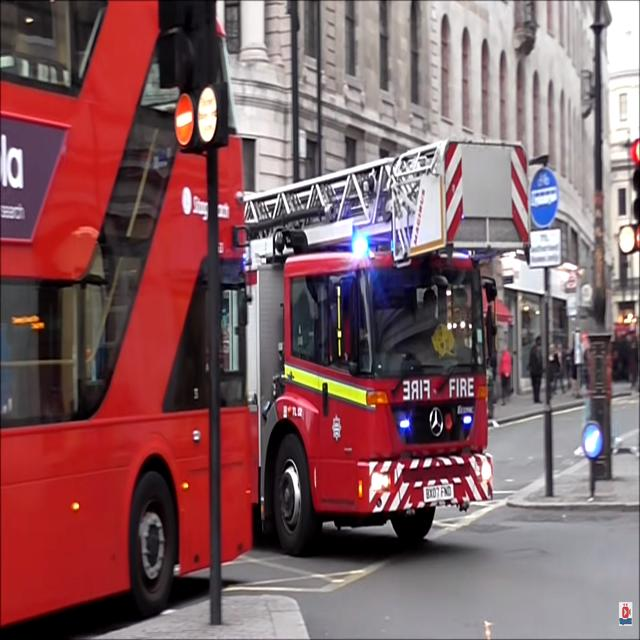emergency-vehicles: (232, 130, 561, 565)
